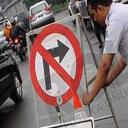NoVirarDireita: (28, 22, 84, 108)
